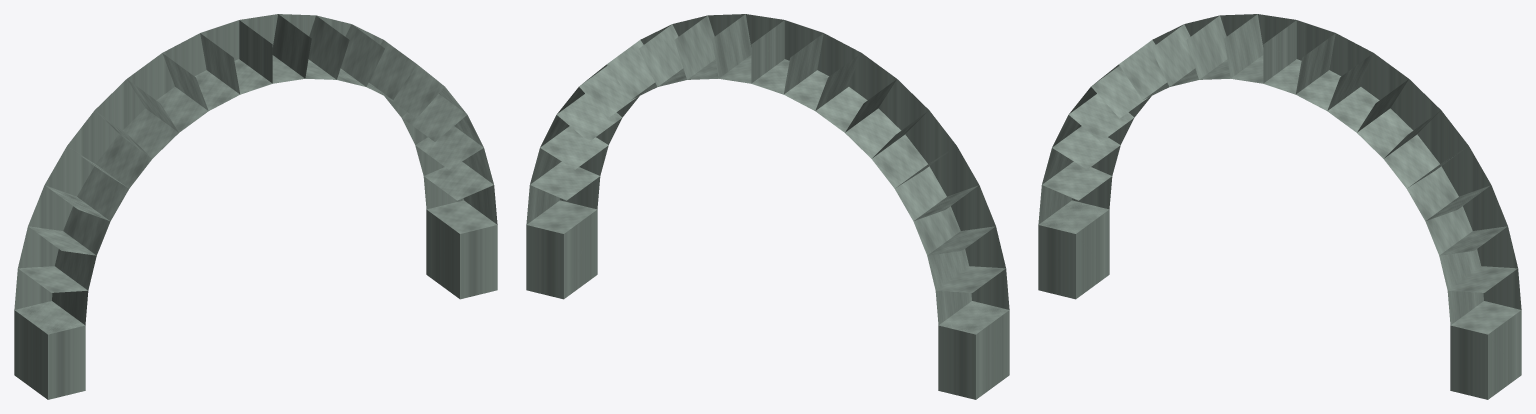
The model's file is tunnel_entrance.glb.
The picture shows the model from 3 angles, left to right: view 1: azimuth 30°, elevation 25°; view 2: azimuth 150°, elevation 25°; view 3: azimuth 330°, elevation 25°; orthographic projection.
Parts seen in each view (by area): view 1: static_stone; view 2: static_stone; view 3: static_stone.
Part boxes in pixels (x1,y1,x2,y2): static_stone: (14, 14, 497, 399); static_stone: (526, 14, 1009, 399); static_stone: (1038, 14, 1521, 399).
Bounding box in the file's own units: 10.8 × 6.9 × 1.4.
Materials: 1 (1 with a texture image).
